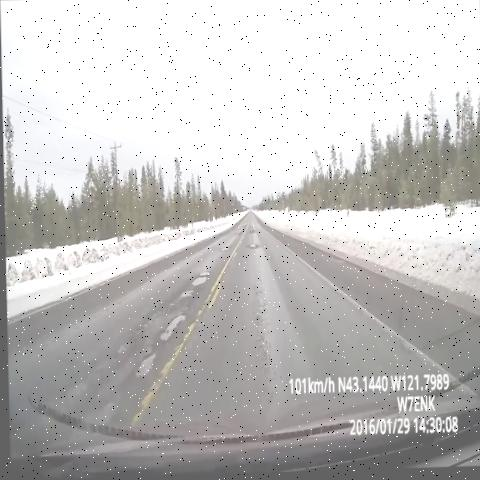pothole: (152, 311, 195, 353), (127, 351, 156, 387), (184, 267, 213, 293), (170, 288, 200, 308), (241, 240, 261, 262), (212, 245, 231, 261), (245, 223, 258, 239)
